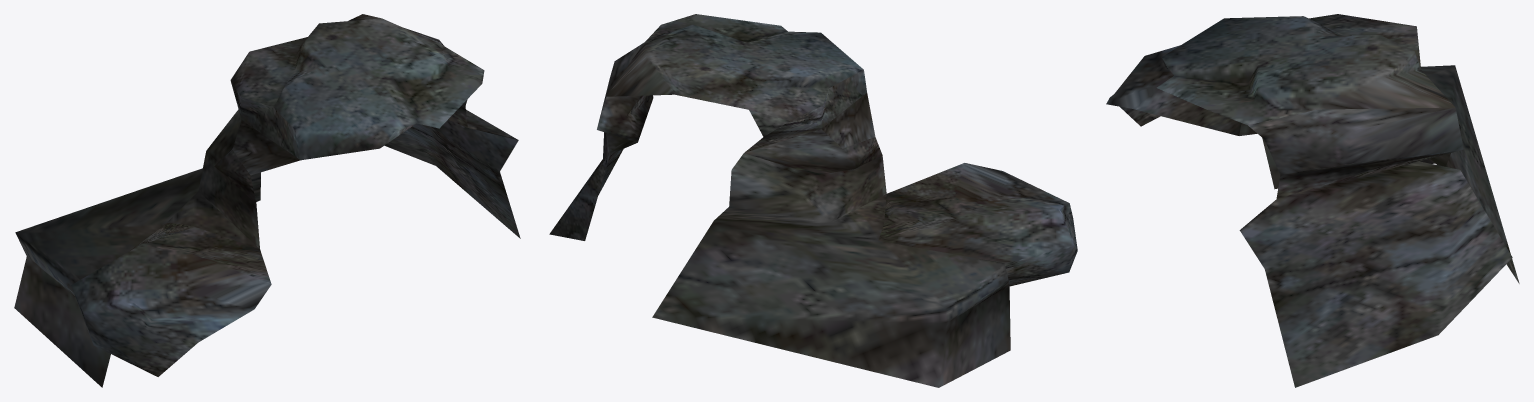
File: S_Rock_Yellow034_H45.FBX
3 views of the same model, side by side, from view 1: azimuth 30°, elevation 25°; view 2: azimuth 150°, elevation 25°; view 3: azimuth 270°, elevation 25° (orthographic). The views are drawn at different scales.
Parts seen in each view (by area): view 1: S_Rock_Yellow034_H45; view 2: S_Rock_Yellow034_H45; view 3: S_Rock_Yellow034_H45.
Boxes of the visible parts, bbox=[...] form: S_Rock_Yellow034_H45: bbox=[14, 14, 520, 387]; S_Rock_Yellow034_H45: bbox=[549, 14, 1077, 387]; S_Rock_Yellow034_H45: bbox=[1106, 14, 1519, 387].
Bounding box in the file's own units: 1176 × 770 × 612.
1 material, 1 textured.
